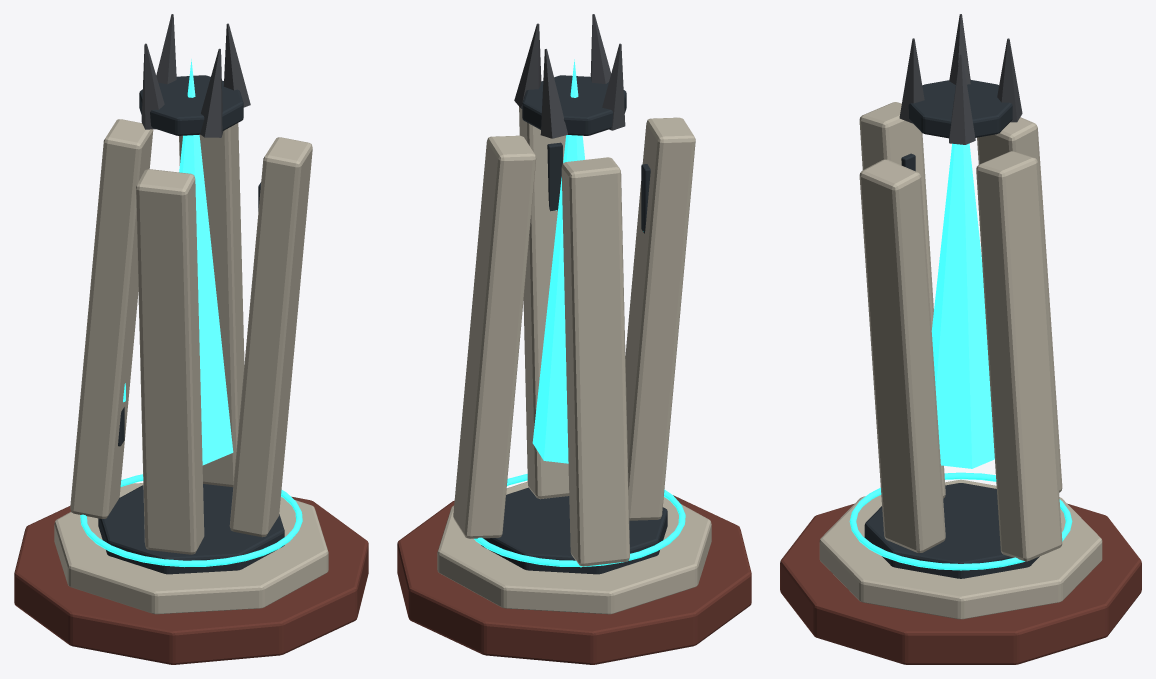
The model's file is signal-beacon.glb.
The picture shows the model from 3 angles, left to right: view 1: azimuth 30°, elevation 25°; view 2: azimuth 150°, elevation 25°; view 3: azimuth 270°, elevation 25°; orthographic projection.
Visible parts, largest first — view 1: signal-beacon; view 2: signal-beacon; view 3: signal-beacon.
Boxes of the visible parts, <box> form: signal-beacon: <box>14,14,368,664</box>; signal-beacon: <box>397,14,751,664</box>; signal-beacon: <box>780,14,1141,664</box>.
Bounding box in the file's own units: 8.37 × 14.9 × 8.77.
